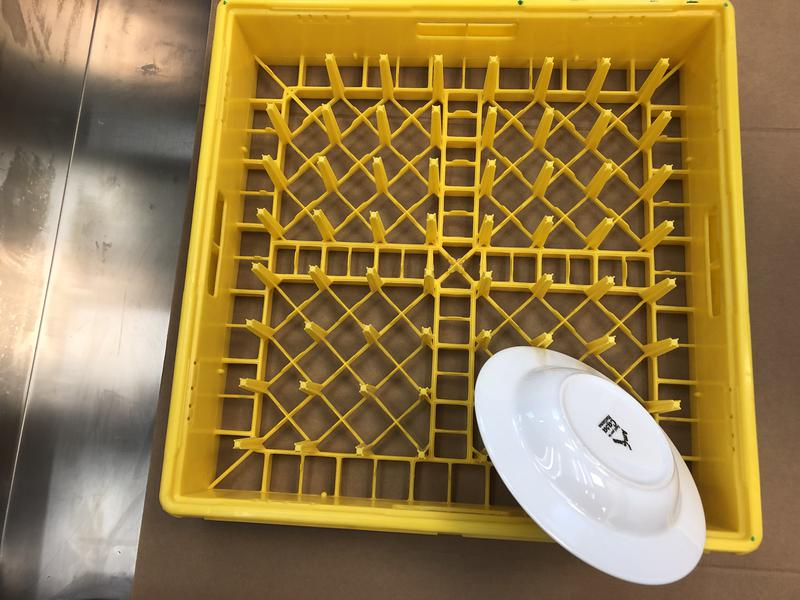Inclined_dish: (474, 343, 708, 583)
